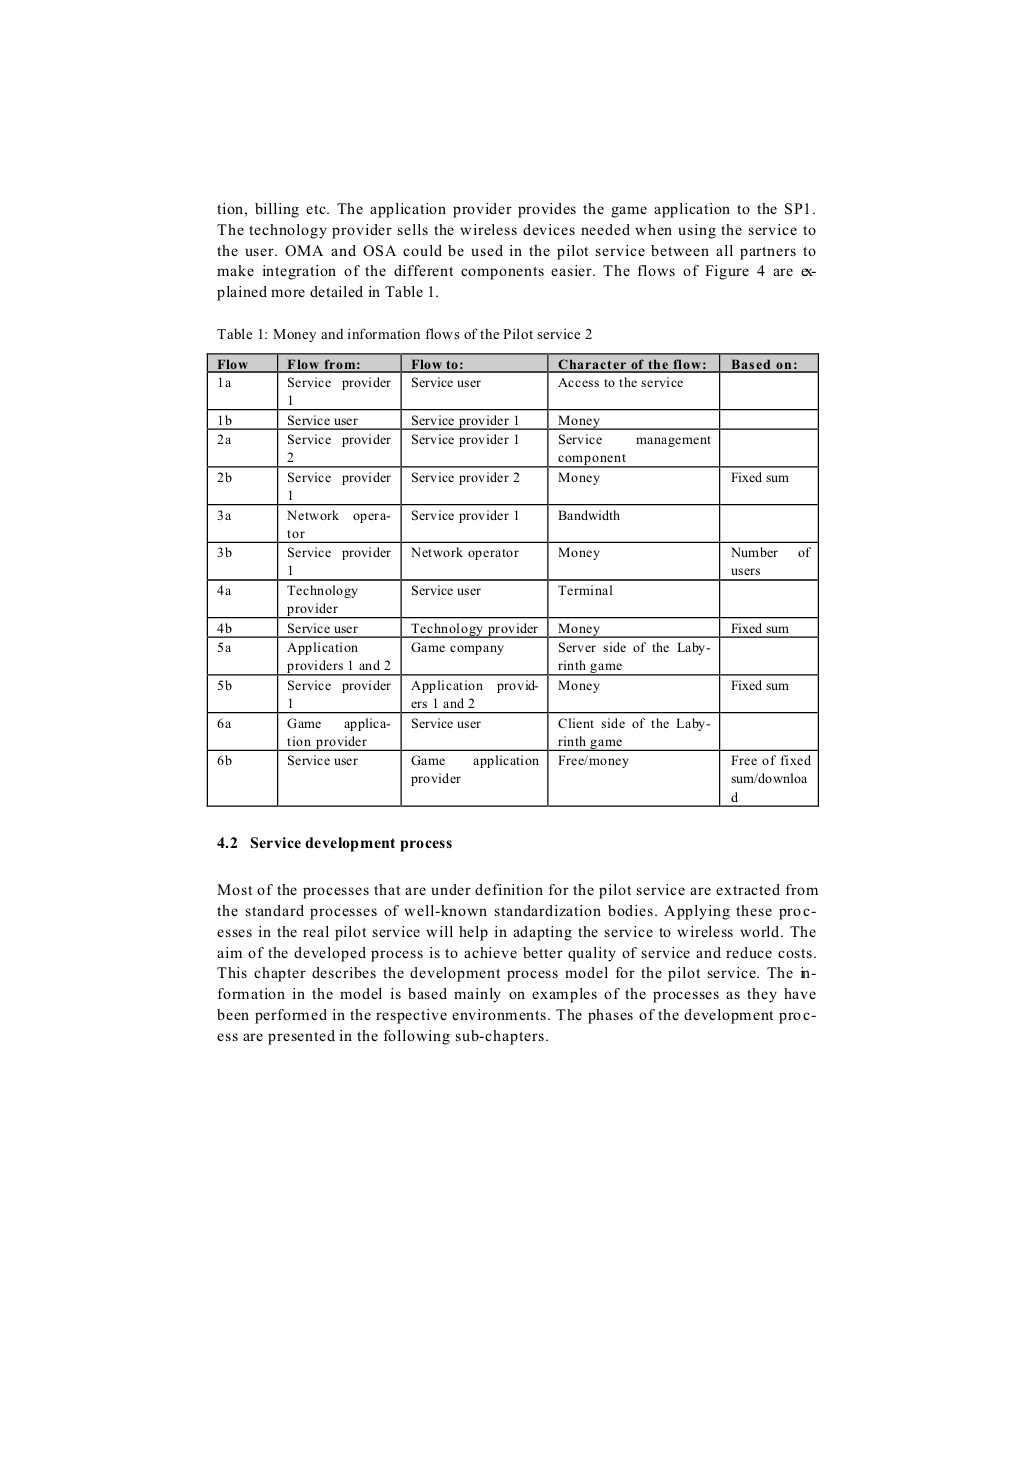Table: (206, 352, 818, 807)
